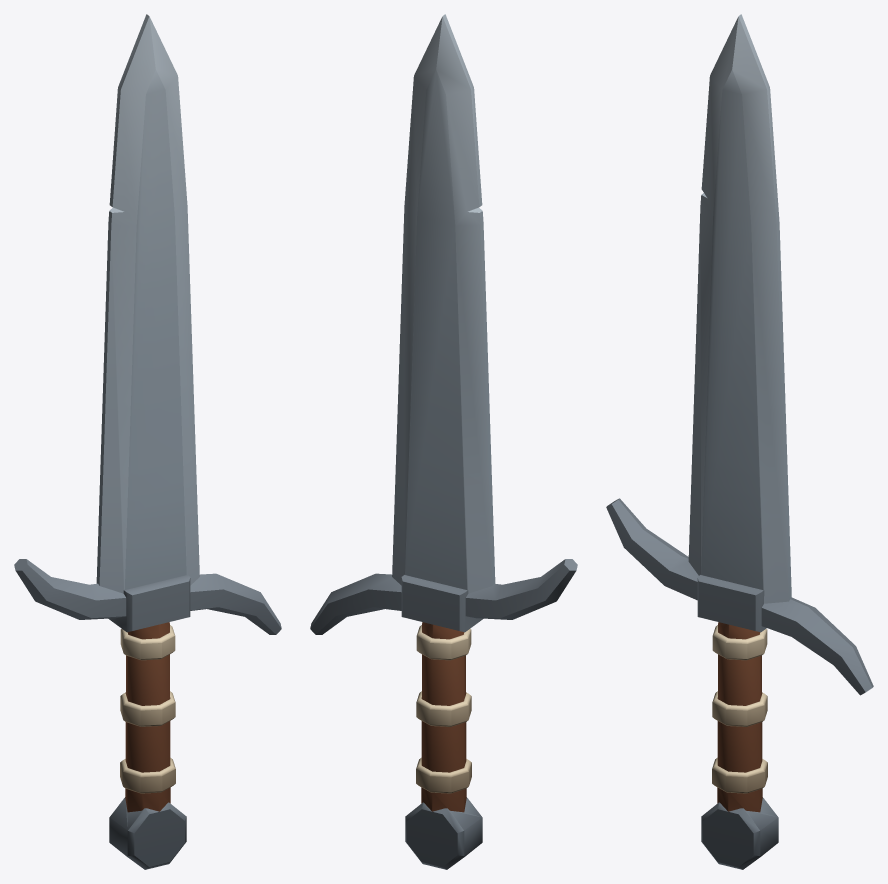
Rendered from greatsword_steel.glb.
3 renders of one model, left to right at view 1: azimuth 30°, elevation 25°; view 2: azimuth 150°, elevation 25°; view 3: azimuth 330°, elevation 25°, orthographic.
Parts seen in each view (by area): view 1: Item; view 2: Item; view 3: Item.
Part boxes in pixels (<box>): Item: <box>14,14,281,869</box>; Item: <box>310,14,577,869</box>; Item: <box>606,14,873,869</box>.
Size of the model in its own units: 0.8347 by 2.54 by 0.1571.
2 materials, 2 textured.
